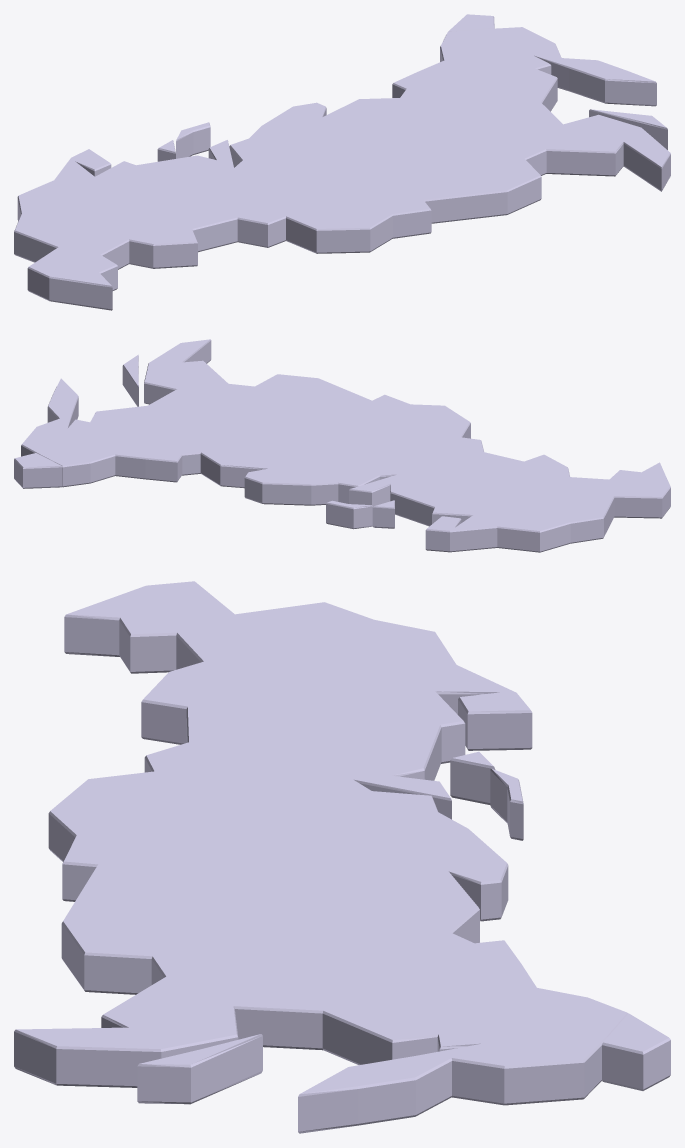
The model's file is RUS.glb.
The picture shows the model from 3 angles, top to bottom: view 1: azimuth 30°, elevation 25°; view 2: azimuth 150°, elevation 25°; view 3: azimuth 270°, elevation 25°; orthographic projection. The views are drawn at different scales.
Bounding box in the file's own units: 1.9 × 0.068 × 1.03.
